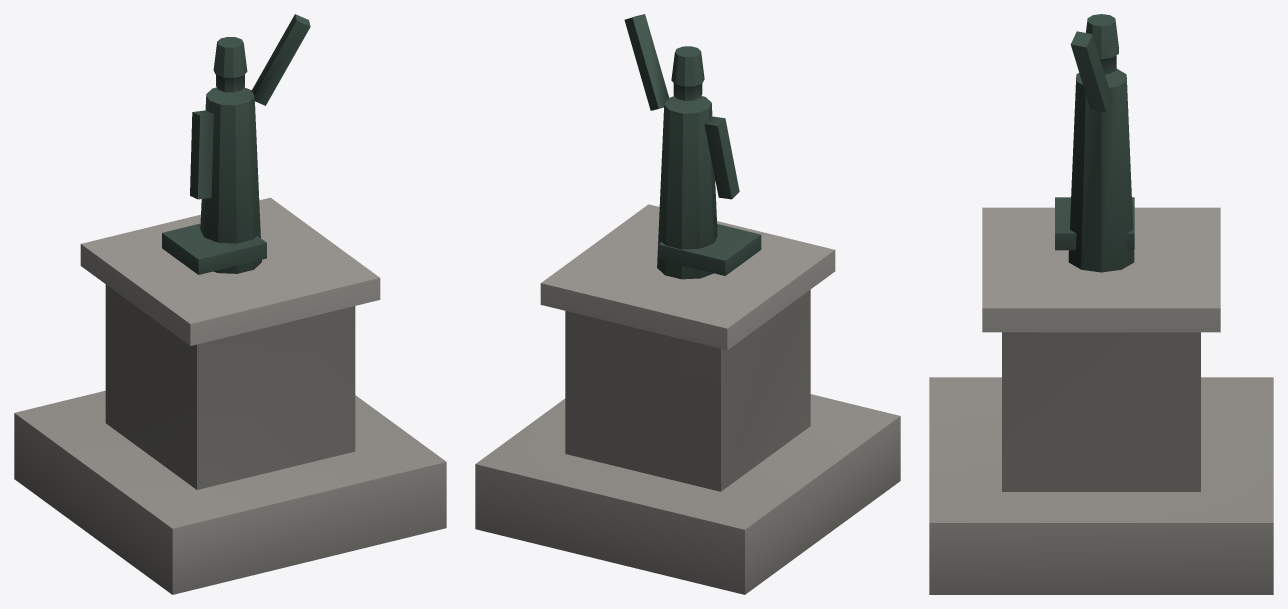
Rendered from denkmal.glb.
3 renders of one model, left to right at view 1: azimuth 30°, elevation 25°; view 2: azimuth 150°, elevation 25°; view 3: azimuth 270°, elevation 25°, orthographic. The views are drawn at different scales.
Visible parts, largest first — view 1: lack; view 2: lack; view 3: lack.
Part boxes in pixels (left/top/right/bottom): lack: left=14, top=14, right=446, bottom=594; lack: left=475, top=14, right=900, bottom=594; lack: left=929, top=14, right=1273, bottom=594.
Size of the model in its own units: 2.6 by 4.33 by 2.6.
